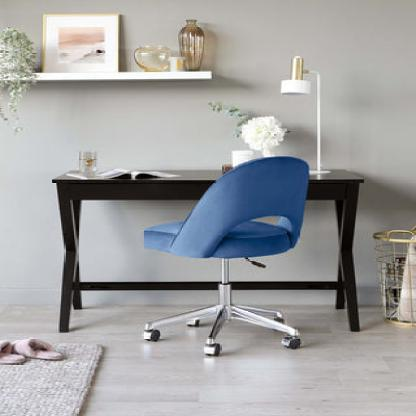chair: (139, 150, 320, 362)
light: (277, 47, 329, 180)
table: (53, 164, 381, 338)
